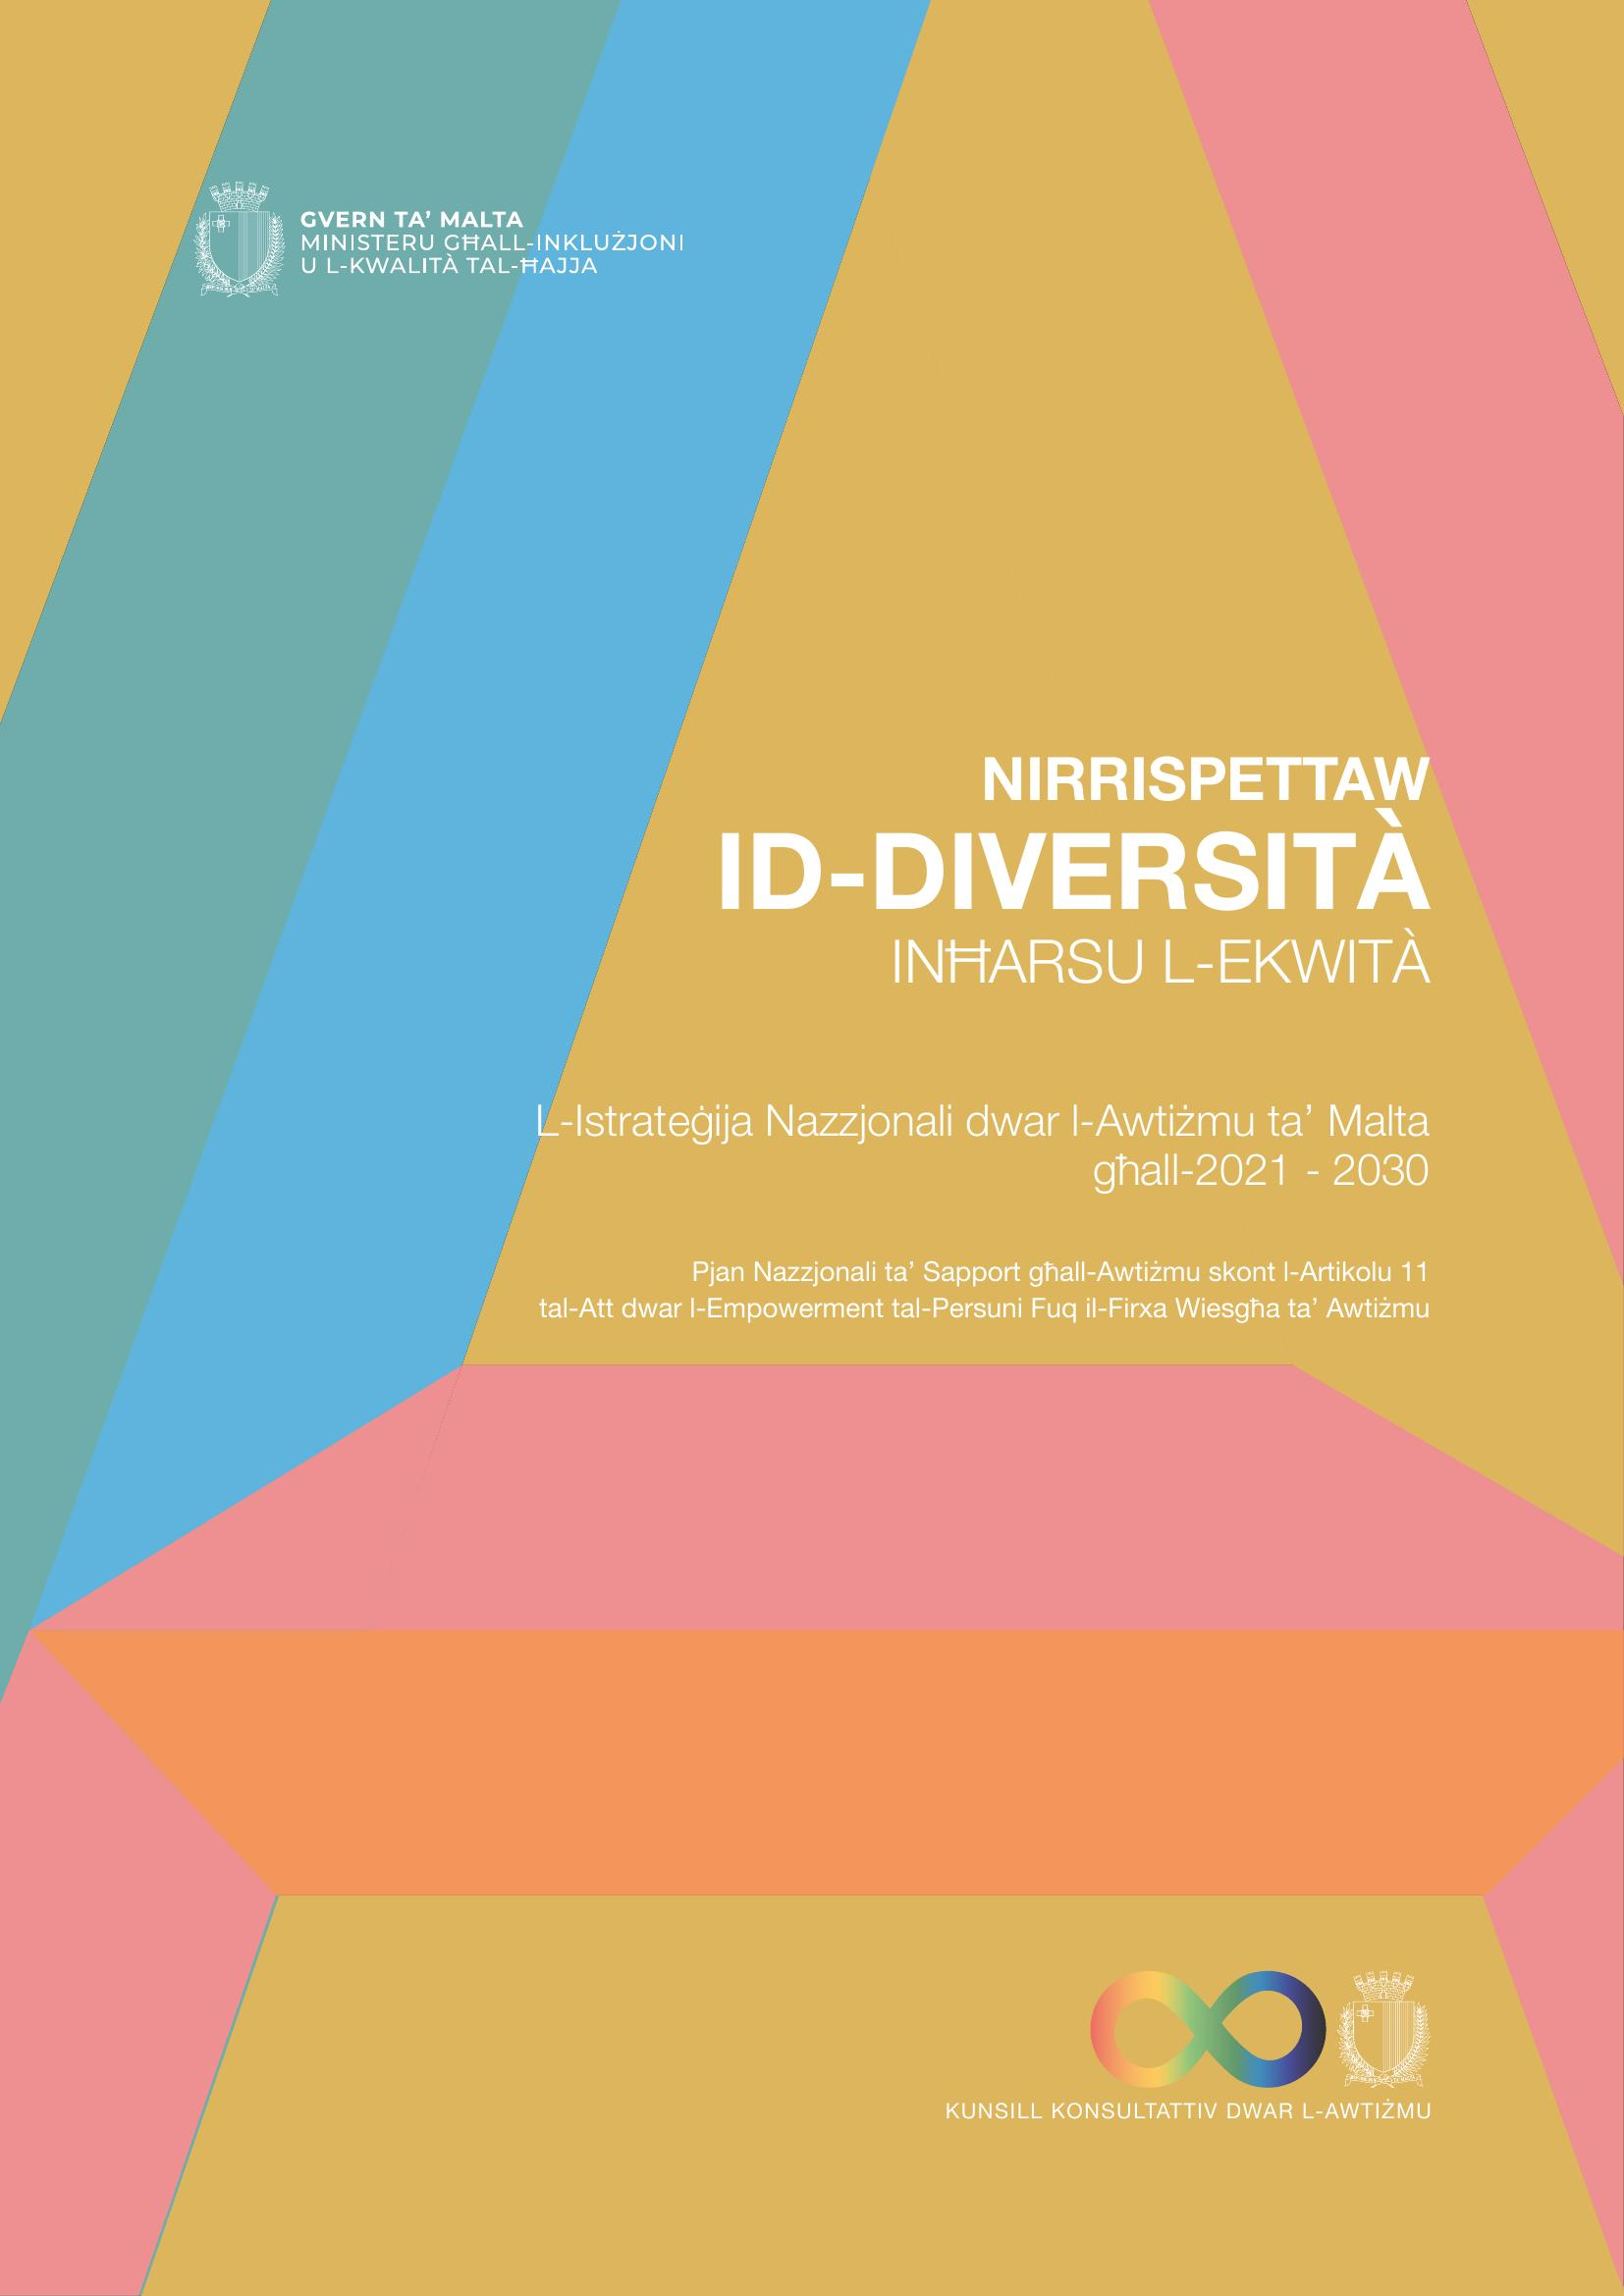text: (478, 718, 1459, 1374)
